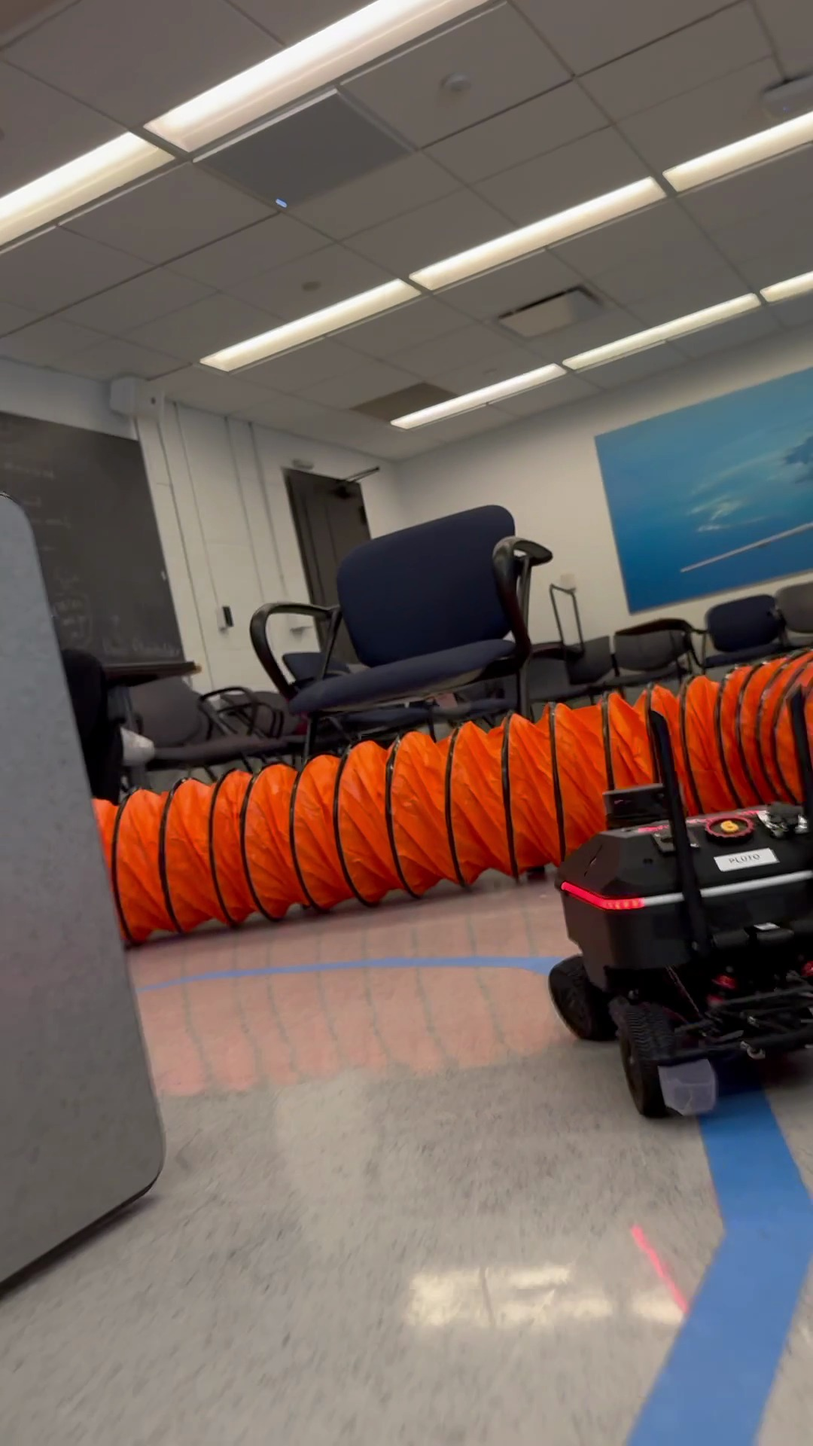racecar: (541, 698, 813, 1120)
